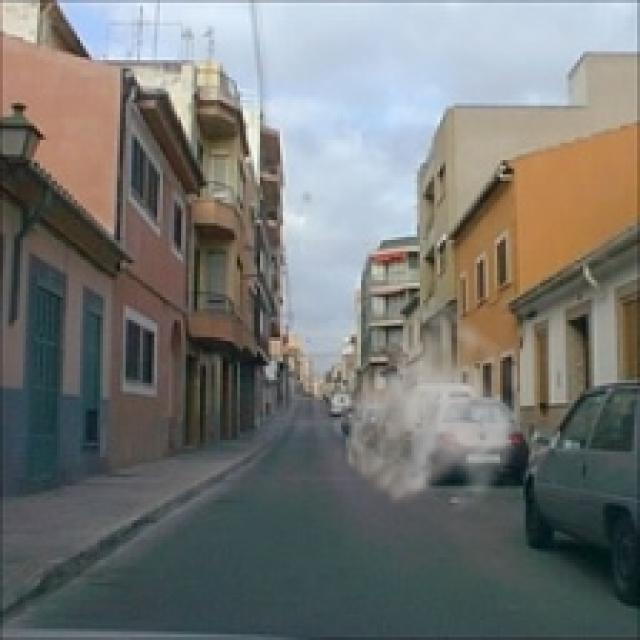Smoke: (328, 283, 528, 526)
